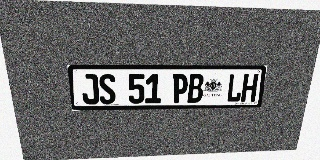1: (145, 74, 161, 103)
5: (128, 74, 145, 104)
B: (187, 74, 204, 103)
H: (241, 74, 259, 102)
J: (80, 74, 99, 104)
L: (226, 74, 244, 102)
P: (172, 74, 188, 103)
S: (98, 74, 116, 104)
